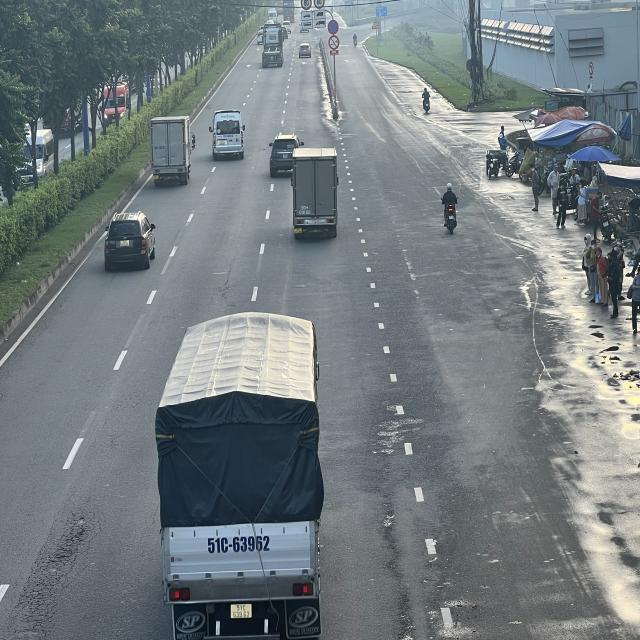car: (103, 210, 157, 267), (270, 135, 302, 174)
container: (262, 25, 284, 68)
truck: (160, 309, 328, 636), (290, 146, 338, 237), (153, 116, 198, 185)
van: (209, 110, 246, 160)
